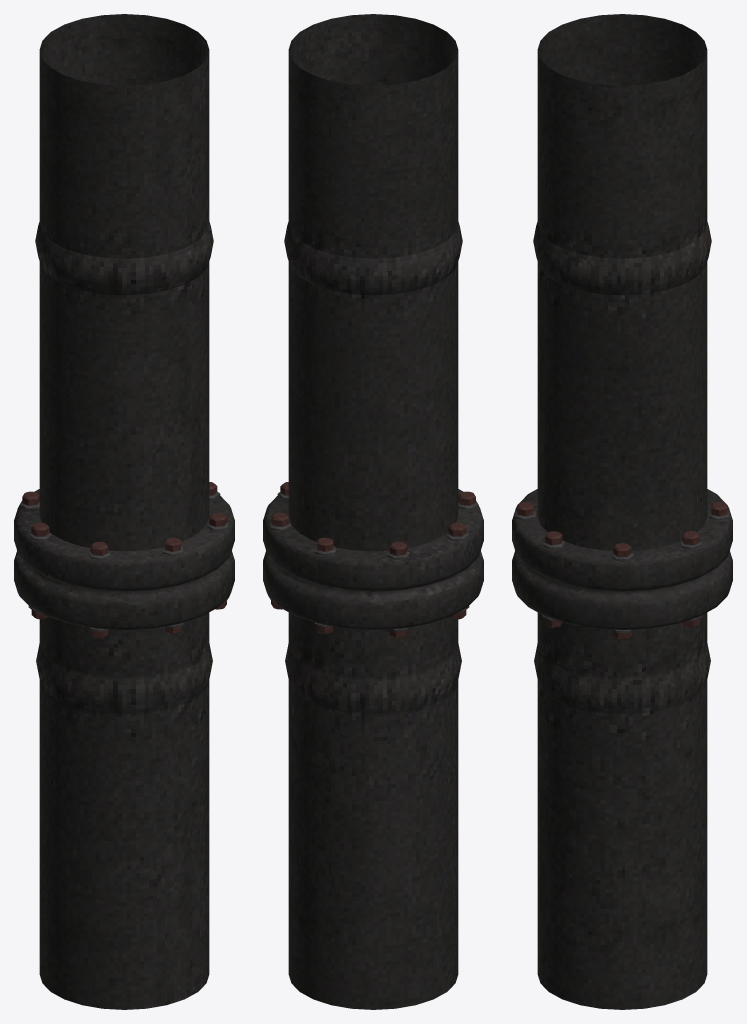
Rendered from pipe_1_short.glb.
3 renders of one model, left to right at view 1: azimuth 30°, elevation 25°; view 2: azimuth 150°, elevation 25°; view 3: azimuth 270°, elevation 25°, orthographic.
Parts seen in each view (by area): view 1: pipe_1_short; view 2: pipe_1_short; view 3: pipe_1_short.
Part boxes in pixels (<box>): pipe_1_short: <box>14,14,234,1009</box>; pipe_1_short: <box>263,14,483,1009</box>; pipe_1_short: <box>512,14,732,1009</box>.
Bounding box in the file's own units: 0.26 × 1.2 × 0.26.
3 materials, 3 textured.
